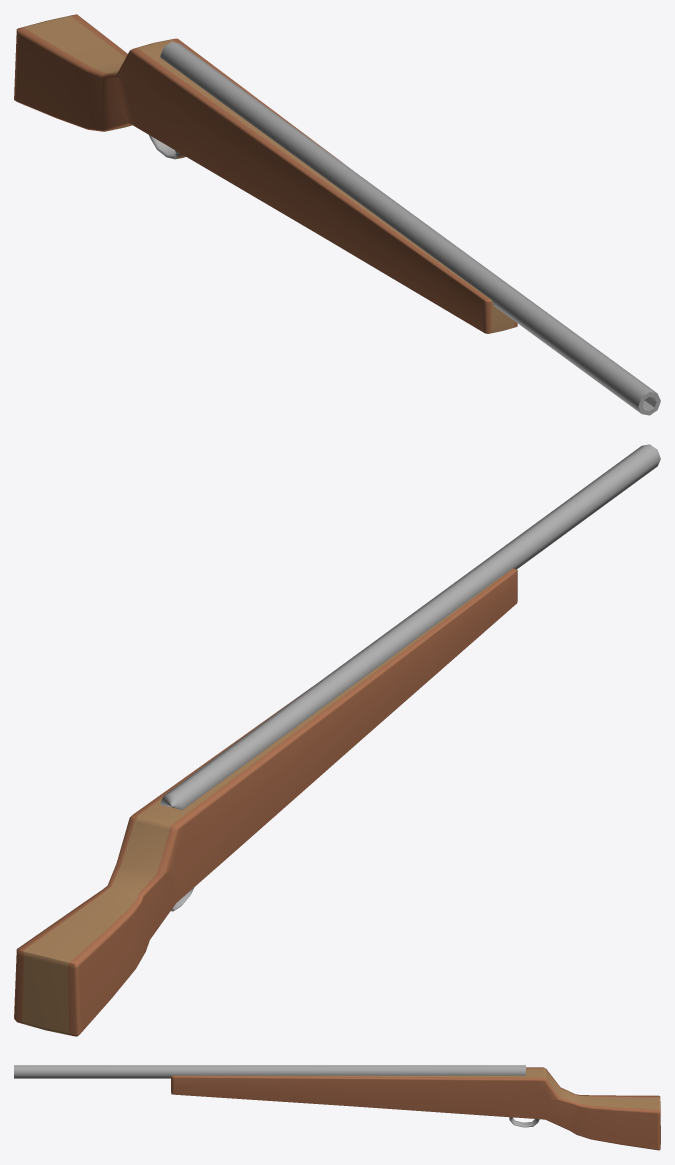
Rendered from lakediverspeargun.fbx.
3 renders of one model, top to bottom at view 1: azimuth 30°, elevation 25°; view 2: azimuth 150°, elevation 25°; view 3: azimuth 270°, elevation 25°, orthographic. The views are drawn at different scales.
Visible parts, largest first — view 1: divergun; view 2: divergun; view 3: divergun.
Boxes of the visible parts, left/top/right/bottom form: divergun: left=14, top=14, right=660, bottom=415; divergun: left=14, top=444, right=660, bottom=1036; divergun: left=14, top=1065, right=660, bottom=1150.
Bounding box in the file's own units: 0.1182 × 0.2484 × 1.88.
